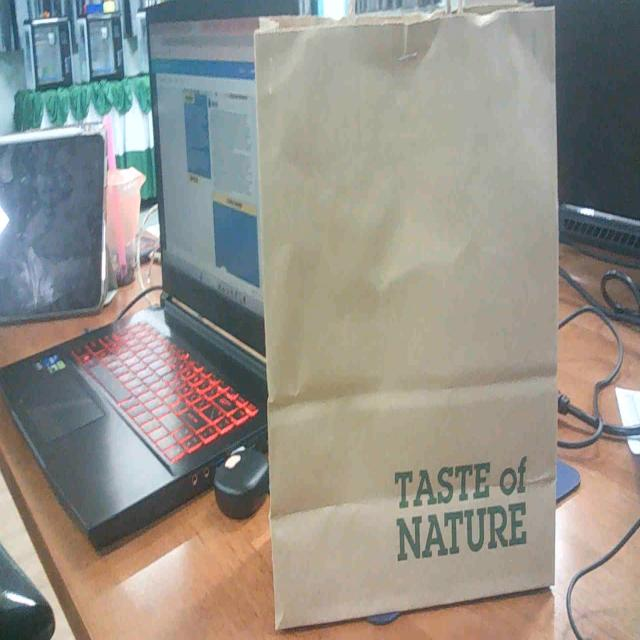bag: (251, 26, 568, 601)
